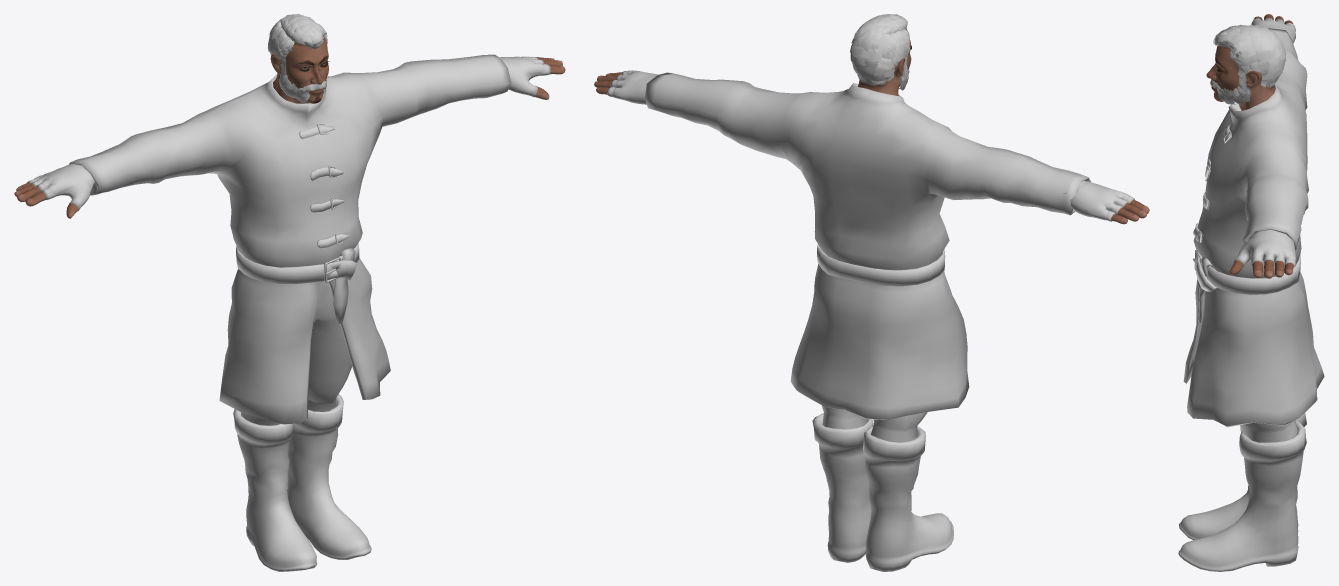
The model's file is Enemy Character 1.obj.
The picture shows the model from 3 angles, left to right: view 1: azimuth 30°, elevation 25°; view 2: azimuth 150°, elevation 25°; view 3: azimuth 270°, elevation 25°; orthographic projection.
Parts seen in each view (by area): view 1: Tops, Shoes, Bottoms, Body, Gloves, Hair; view 2: Tops, Shoes, Hair, Gloves, Bottoms, Body; view 3: Tops, Shoes, Hair, Body, Gloves, Bottoms, Beards, Moustaches.
Boxes of the visible parts, x1=… form: Tops: x1=69, y1=54, x2=511, y2=424; Shoes: x1=233, y1=394, x2=371, y2=571; Bottoms: x1=241, y1=280, x2=351, y2=425; Body: x1=14, y1=37, x2=565, y2=218; Gloves: x1=27, y1=56, x2=550, y2=210; Hair: x1=268, y1=14, x2=327, y2=68; Tops: x1=644, y1=72, x2=1090, y2=419; Shoes: x1=812, y1=413, x2=953, y2=571; Hair: x1=850, y1=14, x2=909, y2=85; Gloves: x1=607, y1=70, x2=1134, y2=221; Bottoms: x1=821, y1=405, x2=927, y2=442; Body: x1=594, y1=29, x2=1149, y2=224; Tops: x1=1183, y1=28, x2=1324, y2=427; Shoes: x1=1178, y1=412, x2=1306, y2=571; Hair: x1=1213, y1=24, x2=1286, y2=87; Body: x1=1206, y1=14, x2=1293, y2=278; Gloves: x1=1233, y1=17, x2=1296, y2=267; Bottoms: x1=1215, y1=269, x2=1297, y2=442; Beards: x1=1223, y1=75, x2=1250, y2=104; Moustaches: x1=1210, y1=79, x2=1236, y2=104.
Bounding box in the file's own units: 192 × 177 × 44.93.
